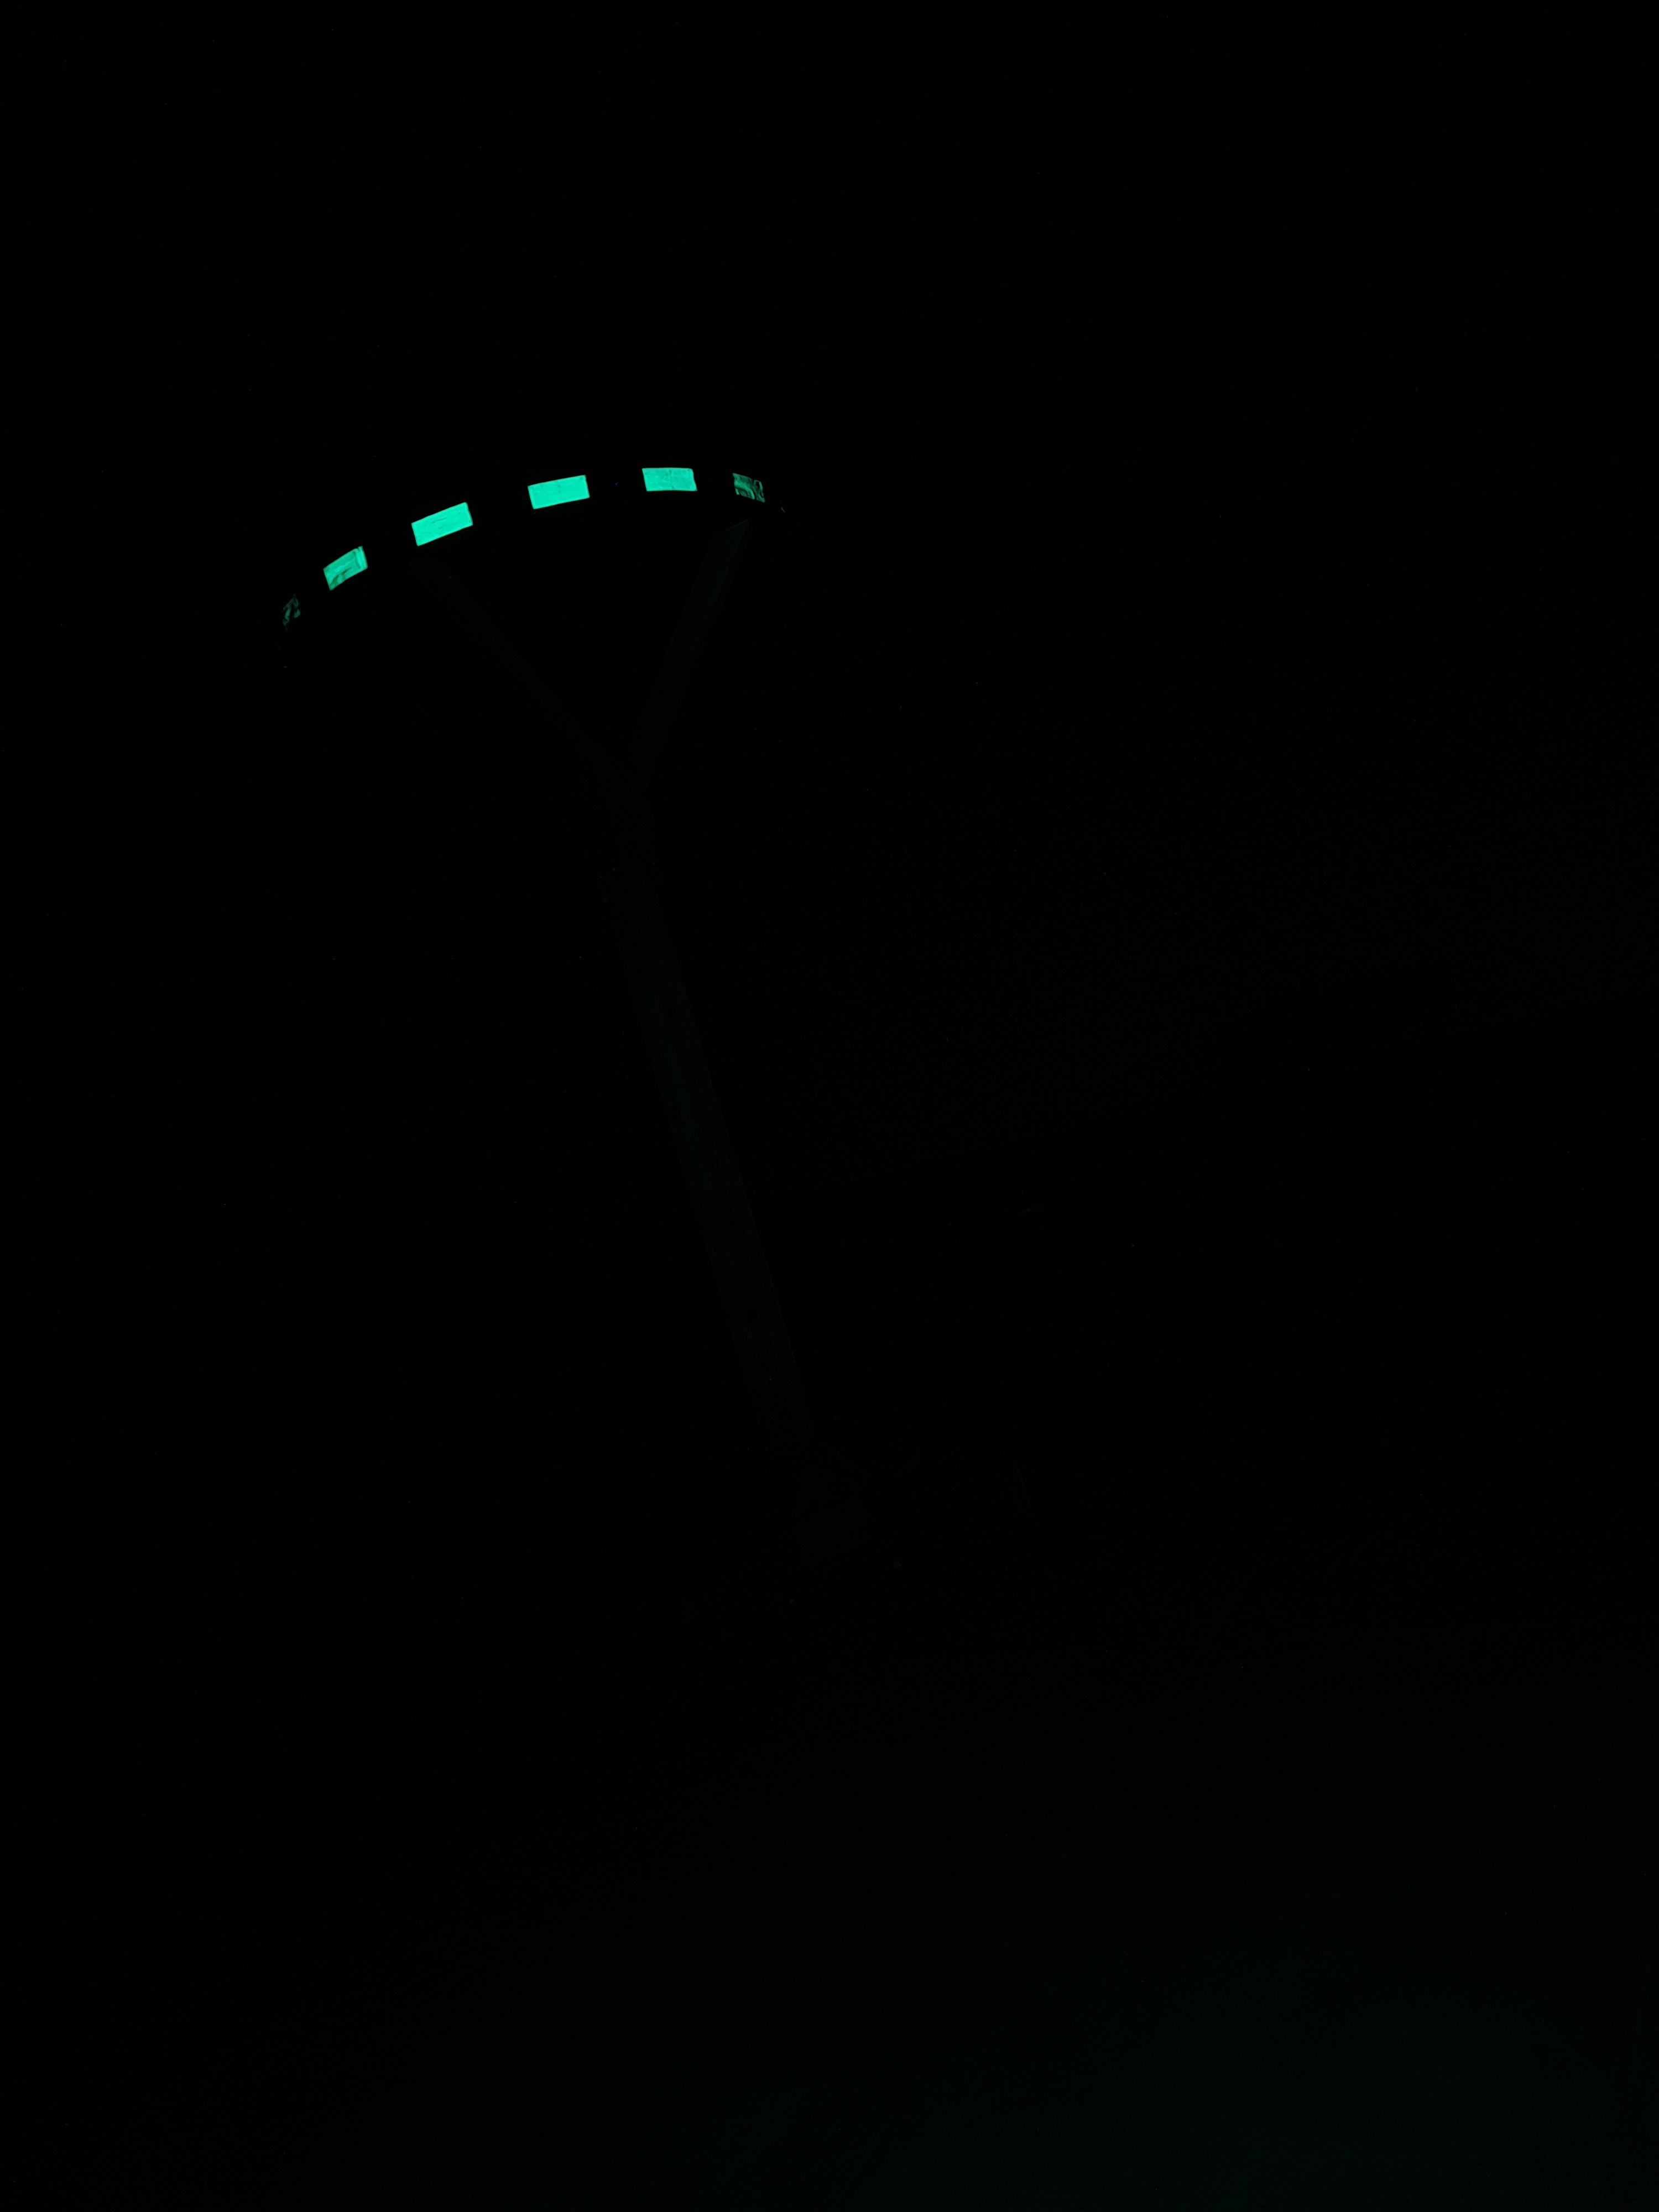hoop: (263, 470, 772, 629)
